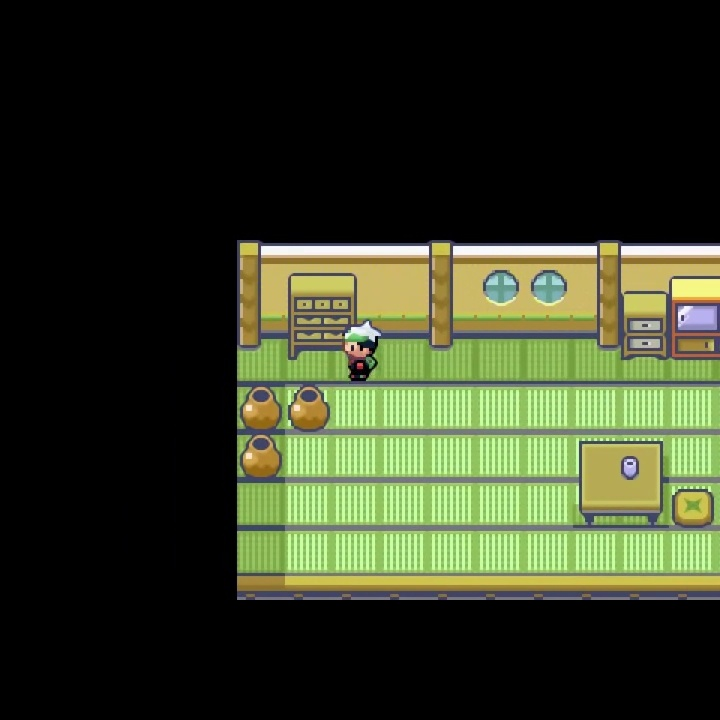npc: (340, 319, 384, 384)
